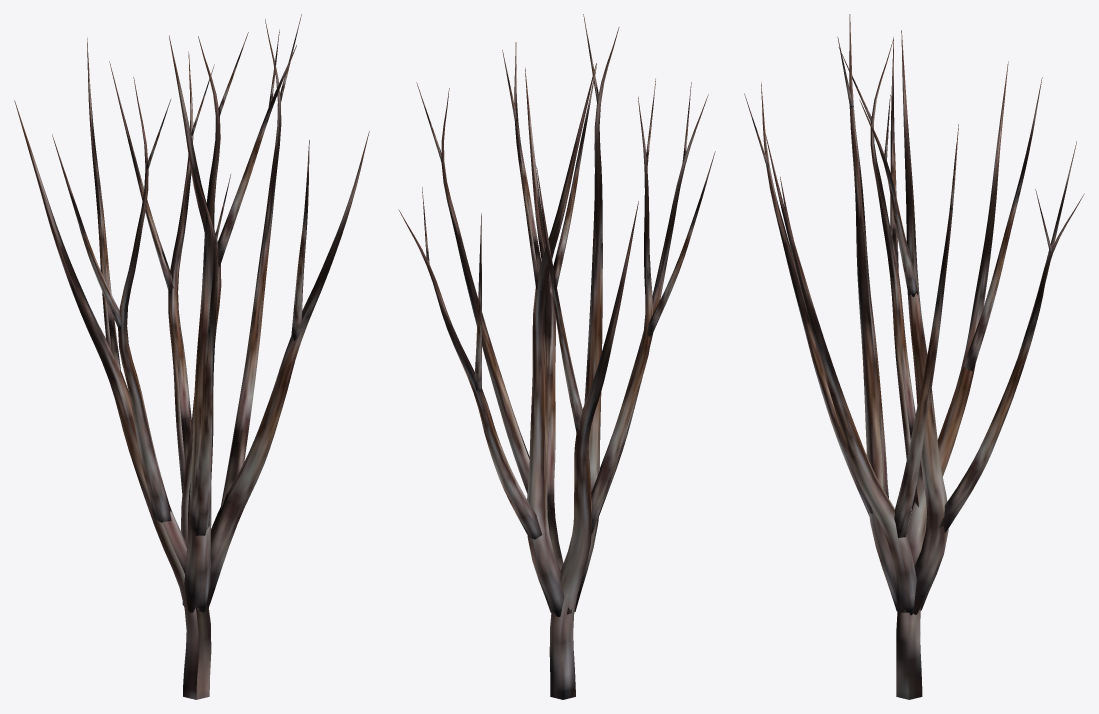
Rendered from No Leaves 2.fbx.
3 renders of one model, left to right at view 1: azimuth 30°, elevation 25°; view 2: azimuth 150°, elevation 25°; view 3: azimuth 270°, elevation 25°, orthographic. The views are drawn at different scales.
Visible parts, largest first — view 1: Tree No Leaves 2; view 2: Tree No Leaves 2; view 3: Tree No Leaves 2.
Boxes of the visible parts, left/top/right/bottom form: Tree No Leaves 2: left=14, top=14, right=369, bottom=699; Tree No Leaves 2: left=398, top=14, right=715, bottom=699; Tree No Leaves 2: left=744, top=14, right=1084, bottom=699.
Size of the model in its own units: 212 by 492 by 228.
Materials: 1 (1 with a texture image).
